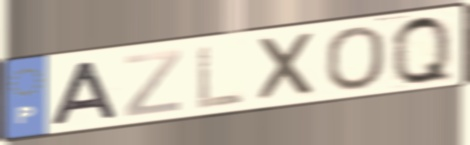A: (47, 58, 122, 129)
L: (195, 42, 247, 112)
O: (322, 24, 388, 93)
Q: (388, 13, 458, 88)
X: (256, 29, 320, 105)
Z: (122, 47, 183, 119)
